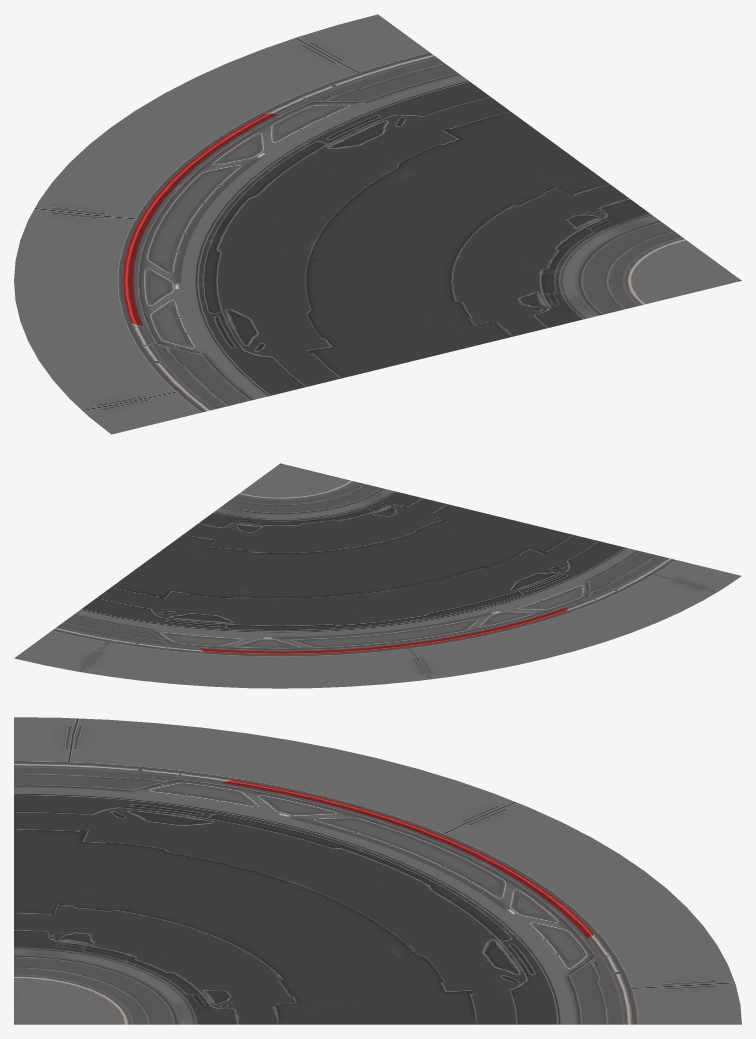
Rendered from Platform_CenterPlate_Curve.glb.
The picture shows the model from 3 angles, top to bottom: view 1: azimuth 30°, elevation 25°; view 2: azimuth 150°, elevation 25°; view 3: azimuth 270°, elevation 25°; orthographic projection. The views are drawn at different scales.
Parts seen in each view (by area): view 1: Platform_CenterPlate_Curve; view 2: Platform_CenterPlate_Curve; view 3: Platform_CenterPlate_Curve.
Boxes of the visible parts, left/top/right/bottom form: Platform_CenterPlate_Curve: left=14, top=14, right=741, bottom=434; Platform_CenterPlate_Curve: left=14, top=463, right=741, bottom=688; Platform_CenterPlate_Curve: left=14, top=717, right=741, bottom=1024.
Size of the model in its own units: 4 by 0 by 4.
Materials: 2 (2 with a texture image).
